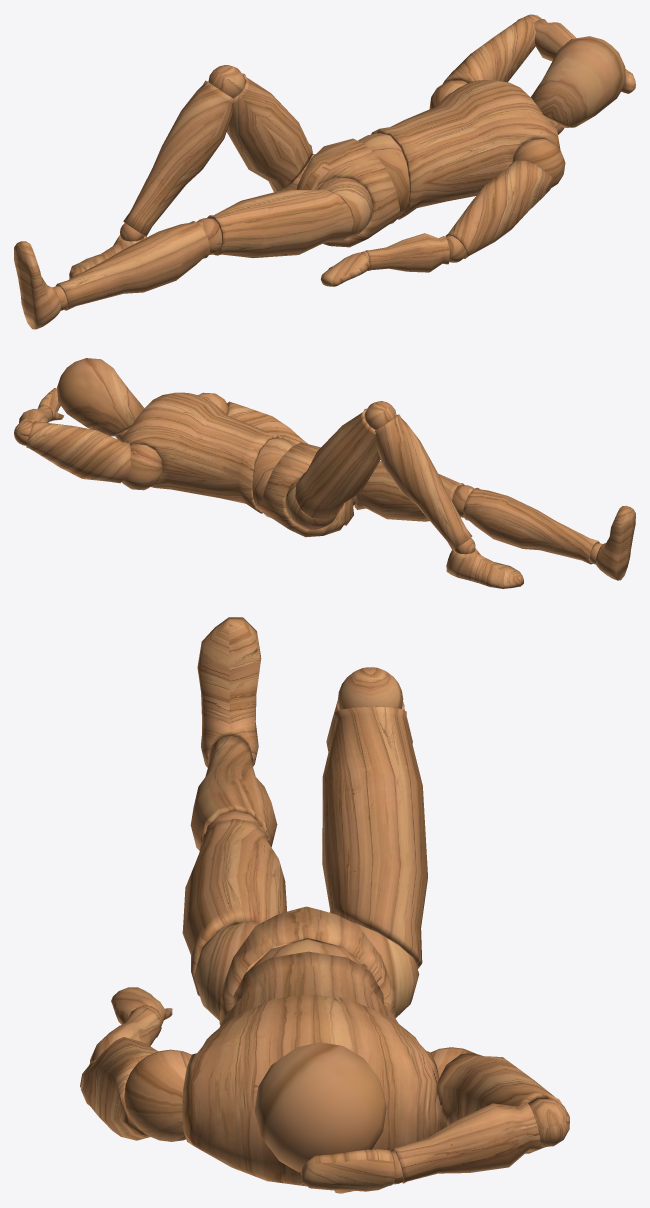
File: 325.parts.obj
3 renders of one model, top to bottom at view 1: azimuth 30°, elevation 25°; view 2: azimuth 150°, elevation 25°; view 3: azimuth 270°, elevation 25°, orthographic. The views are drawn at different scales.
Parts seen in each view (by area): view 1: chest/back_6, right_thigh_21, left_shin_11, right_shin_12, left_thigh_5, head_1, right_arm_17, butt_25, left_arm_2, right_foot_15, right_forearm_26, belly_20 (+7 smaller); view 2: chest/back_6, left_thigh_5, left_shin_11, right_shin_12, head_1, left_arm_2, butt_25, right_thigh_21, left_foot_16, right_foot_15, left_shoulder_4, belly_20 (+6 smaller); view 3: chest/back_6, left_thigh_5, head_1, right_thigh_21, left_forearm_27, right_foot_15, butt_25, right_shin_12, left_arm_2, right_shoulder_7, right_arm_17, left_hand_18 (+5 smaller).
Part boxes in pixels (x1,y1,x2,y2): chest/back_6: (371,80,560,219); right_thigh_21: (207,177,372,258); left_shin_11: (123,80,234,236); right_shin_12: (55,221,209,310); left_thigh_5: (227,73,335,192); head_1: (530,36,625,127); right_arm_17: (445,160,553,258); butt_25: (296,138,399,247); left_arm_2: (443,17,535,83); right_foot_15: (14,241,60,329); right_forearm_26: (365,233,449,272); belly_20: (349,133,409,215); chest/back_6: (121,392,284,513); left_thigh_5: (285,408,380,529); left_shin_11: (375,414,472,549); right_shin_12: (463,487,599,564); head_1: (57,358,144,436); left_arm_2: (26,421,131,483); butt_25: (261,442,353,537); right_thigh_21: (352,461,464,521); left_foot_16: (446,548,523,588); right_foot_15: (596,505,635,580); left_shoulder_4: (122,444,162,490); belly_20: (252,438,296,510); chest/back_6: (182,951,442,1186); left_thigh_5: (321,706,427,1018); head_1: (254,1042,386,1172); right_thigh_21: (182,818,291,1020); left_forearm_27: (392,1101,540,1183); right_foot_15: (197,617,261,767); butt_25: (219,906,395,1025); right_shin_12: (190,735,277,849); left_arm_2: (437,1053,562,1153); right_shoulder_7: (124,1049,191,1141); right_arm_17: (80,1037,157,1140); left_hand_18: (300,1149,395,1193).
Size of the model in its own units: 1.81 by 0.4956 by 0.691.
1 material, 1 textured.
